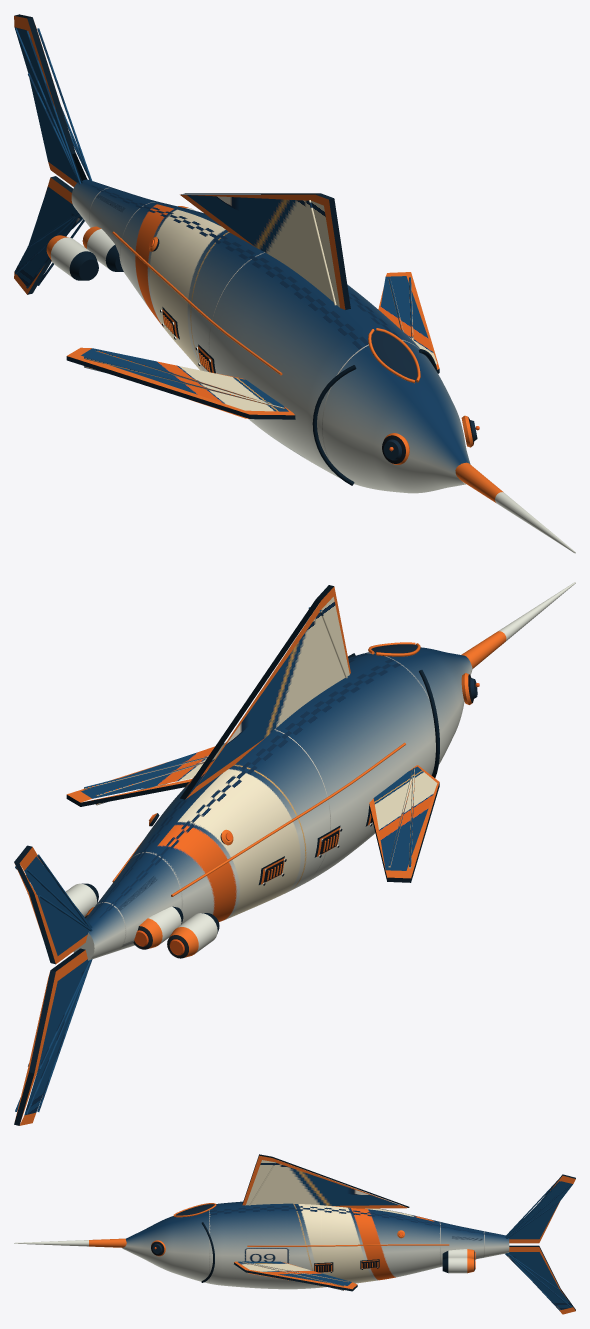
The picture shows the model from 3 angles, top to bottom: view 1: azimuth 30°, elevation 25°; view 2: azimuth 150°, elevation 25°; view 3: azimuth 270°, elevation 25°; orthographic projection. The views are drawn at different scales.
Visible parts, largest first — view 1: marlin_hull; view 2: marlin_hull; view 3: marlin_hull.
Boxes of the visible parts, left/top/right/bottom form: marlin_hull: left=14, top=14, right=575, bottom=553; marlin_hull: left=14, top=582, right=575, bottom=1125; marlin_hull: left=14, top=1154, right=575, bottom=1314.
Size of the model in its own units: 92.3 by 80.93 by 259.
1 material, 1 textured.
